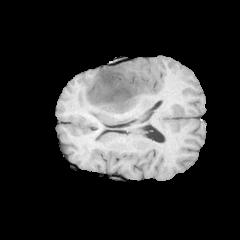glioma: (66, 62, 163, 129)
